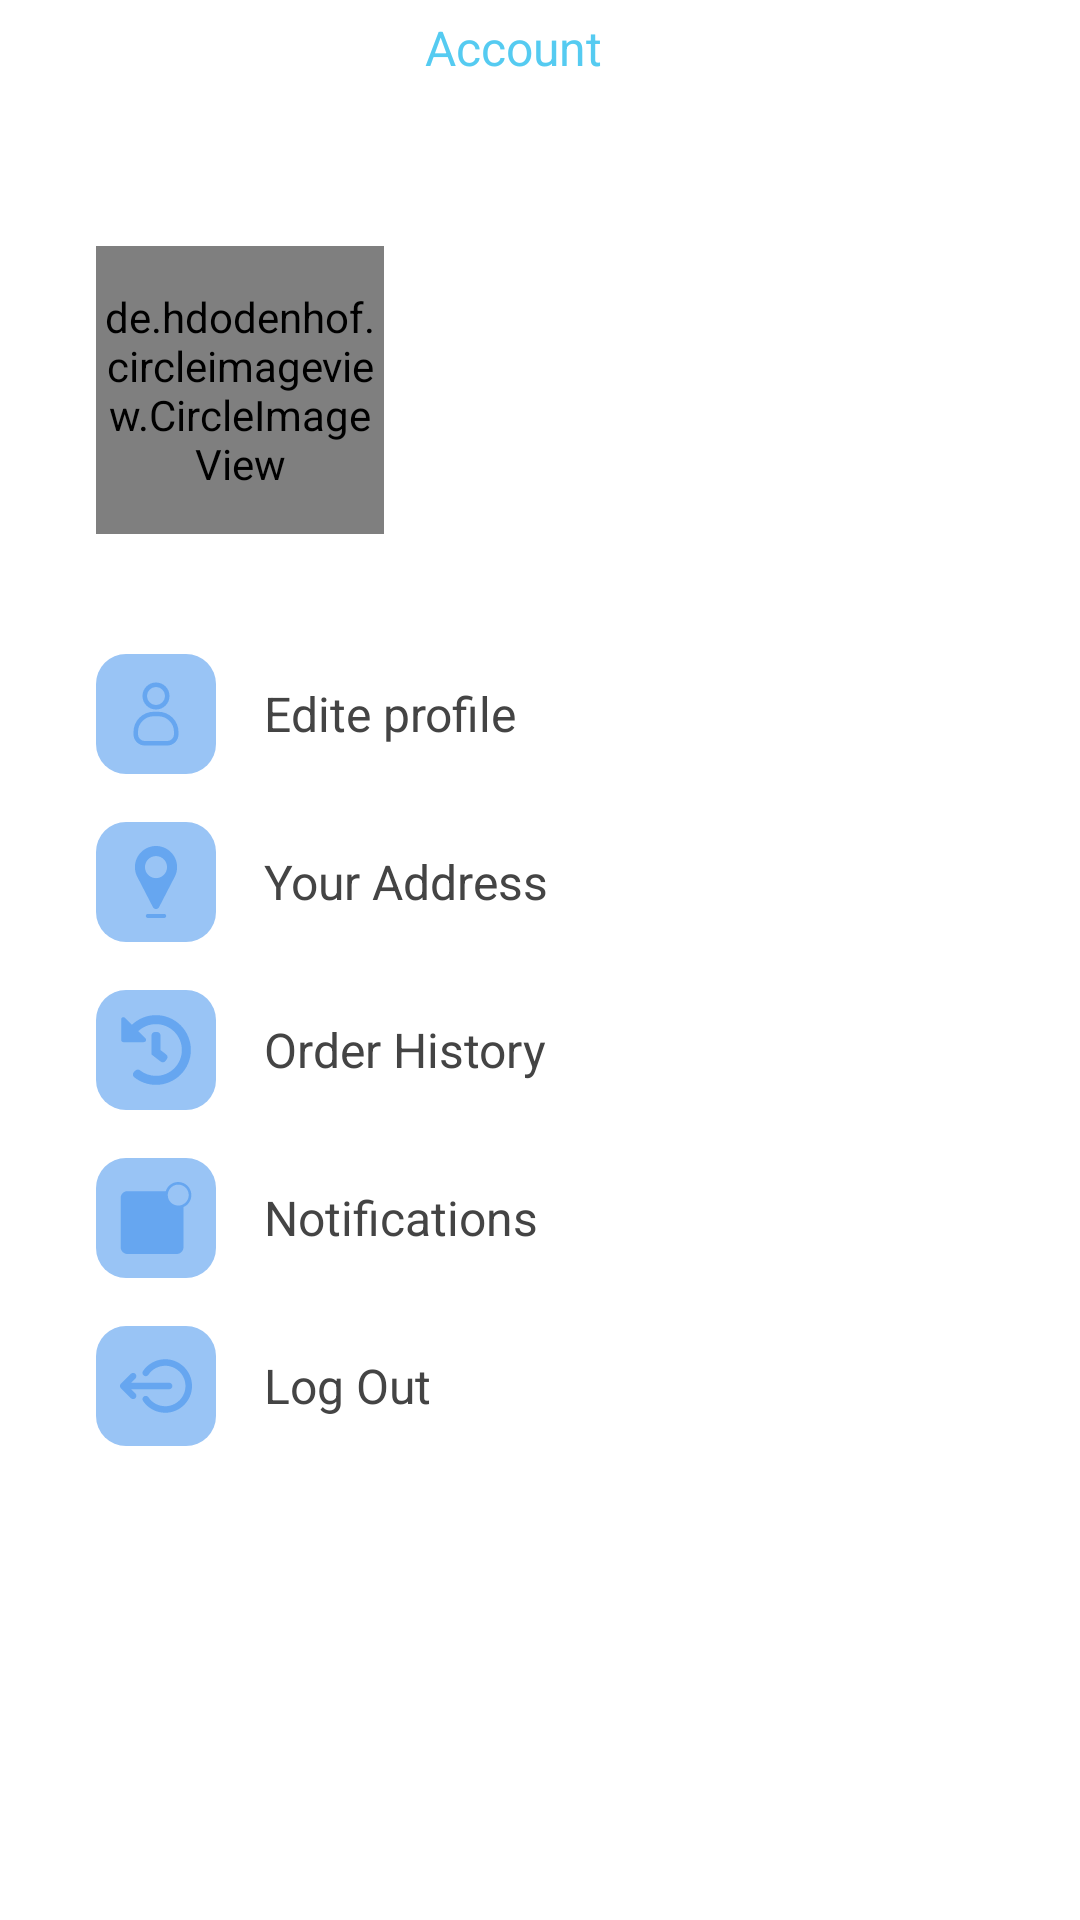

Icons on this 1080px×1920px Android screen, each with the point to tap as [x,y]:
adress: [156,882]
